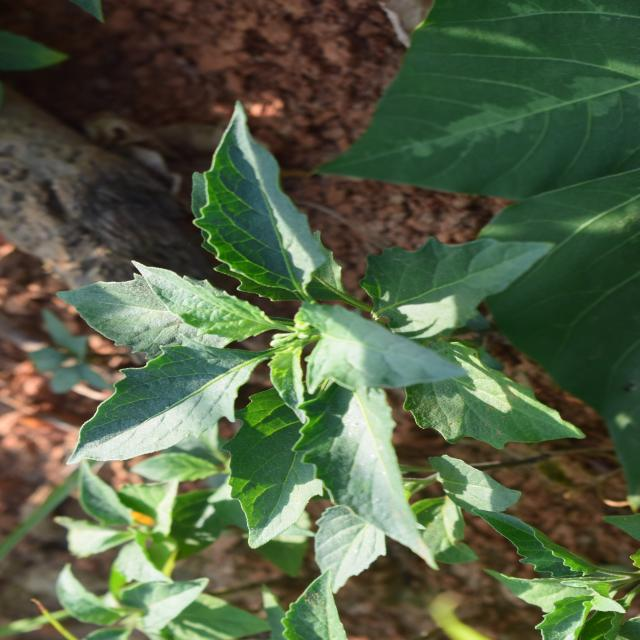Black_nightshade: (122, 81, 458, 507)
